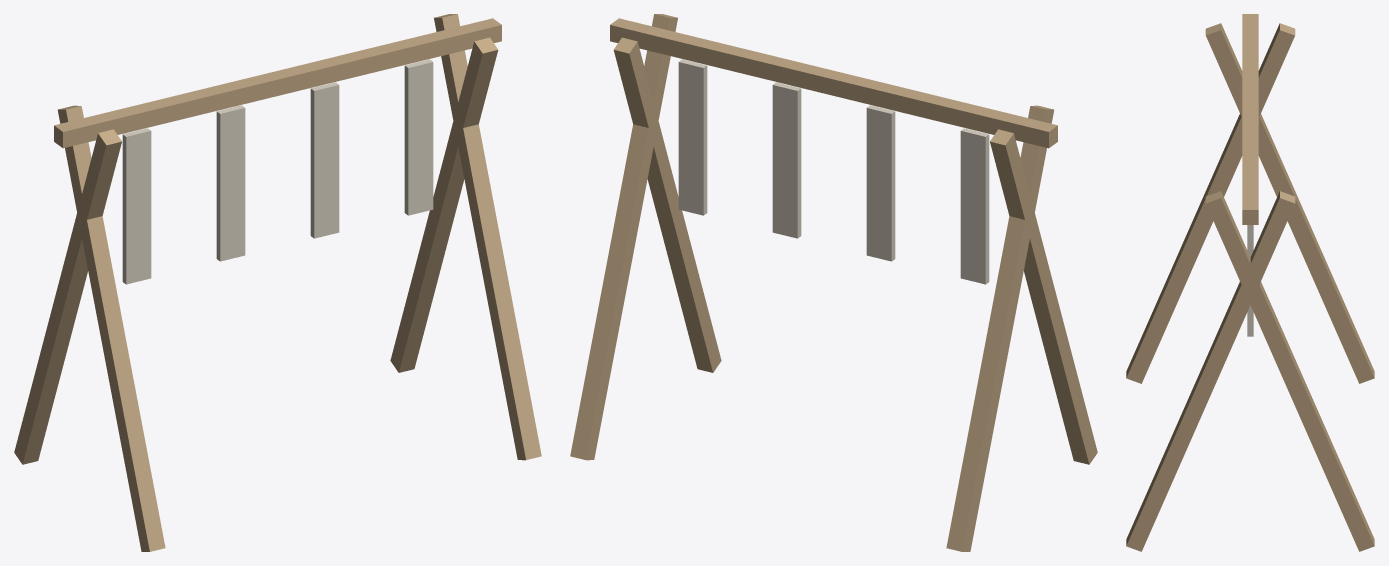
The model's file is prop-fish-rack-fi1.fbx.
3 renders of one model, left to right at view 1: azimuth 30°, elevation 25°; view 2: azimuth 150°, elevation 25°; view 3: azimuth 270°, elevation 25°, orthographic. The views are drawn at different scales.
Visible parts, largest first — view 1: prop-fish-rack-fi1; view 2: prop-fish-rack-fi1; view 3: prop-fish-rack-fi1.
Part boxes in pixels (bbox=[...]): prop-fish-rack-fi1: bbox=[14, 14, 541, 551]; prop-fish-rack-fi1: bbox=[570, 14, 1097, 551]; prop-fish-rack-fi1: bbox=[1126, 14, 1374, 551].
Bounding box in the file's own units: 140 × 118 × 75.01.
